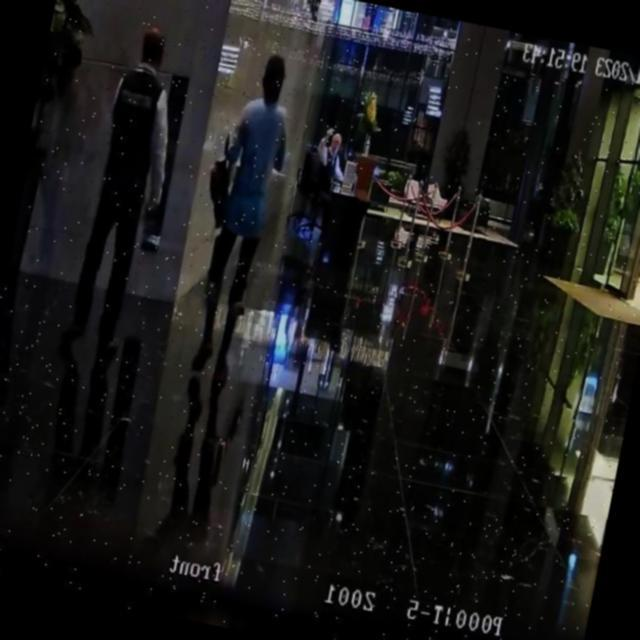person: (58, 20, 194, 362), (184, 49, 305, 384), (313, 130, 352, 196)
